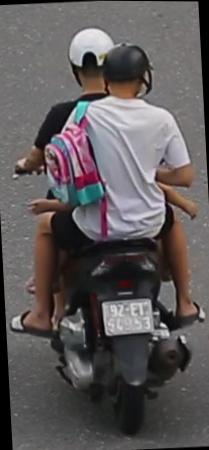LP: (99, 293, 154, 338)
helmet: (99, 41, 155, 108), (63, 22, 116, 87)
